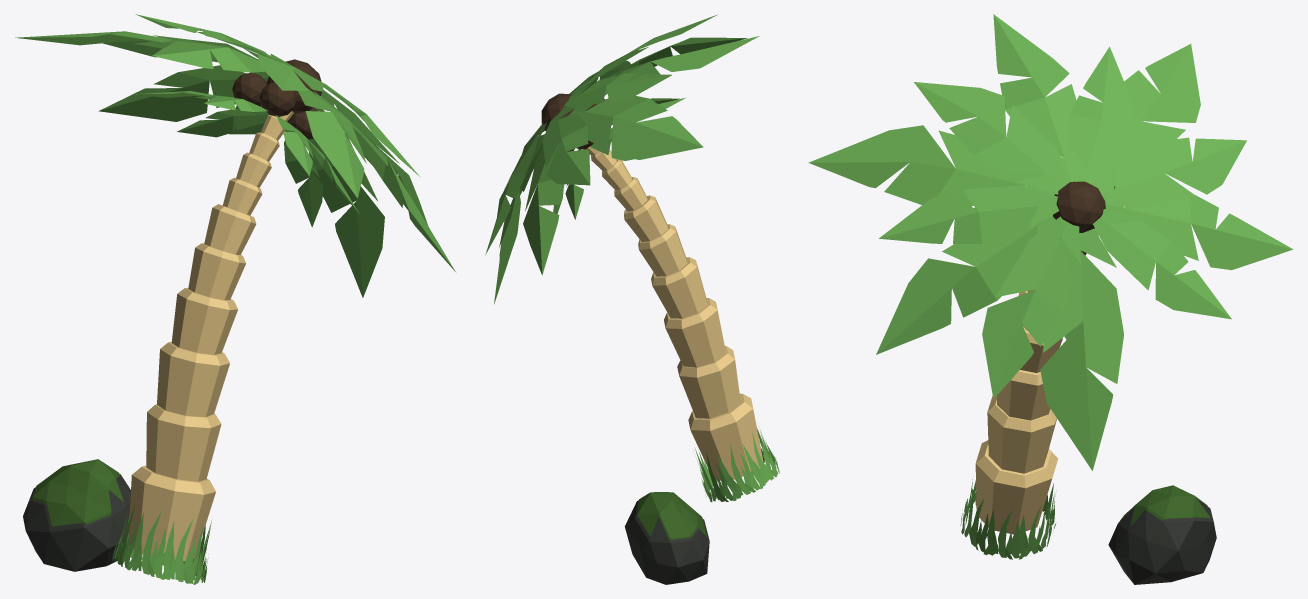
The model's file is palma1.gltf.
3 renders of one model, left to right at view 1: azimuth 30°, elevation 25°; view 2: azimuth 150°, elevation 25°; view 3: azimuth 270°, elevation 25°, orthographic. The views are drawn at different scales.
Visible parts, largest first — view 1: PALM 1, TROPIC ROCK 2; view 2: PALM 1, TROPIC ROCK 2; view 3: PALM 1, TROPIC ROCK 2.
Boxes of the visible parts, x1=… form: PALM 1: x1=15, y1=14, x2=455, y2=584; TROPIC ROCK 2: x1=23, y1=459, x2=130, y2=571; PALM 1: x1=485, y1=14, x2=779, y2=502; TROPIC ROCK 2: x1=624, y1=492, x2=709, y2=584; PALM 1: x1=808, y1=14, x2=1293, y2=559; TROPIC ROCK 2: x1=1108, y1=485, x2=1216, y2=584.
Bounding box in the file's own units: 2.76 × 4.68 × 3.76.
